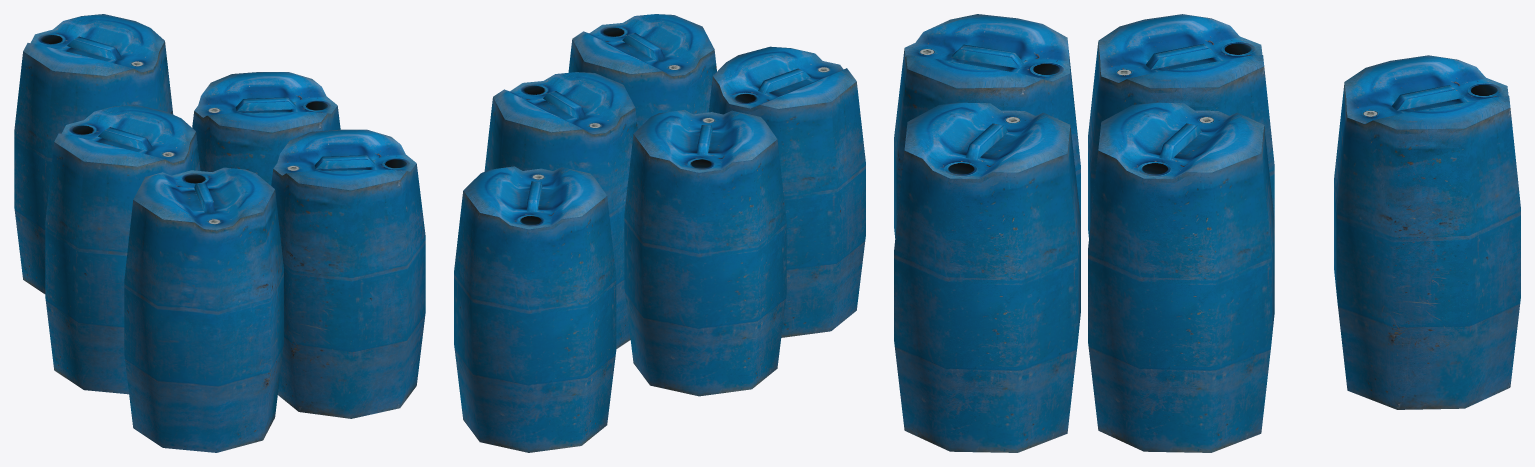
File: Barrel_v2.FBX
The picture shows the model from 3 angles, left to right: view 1: azimuth 30°, elevation 25°; view 2: azimuth 150°, elevation 25°; view 3: azimuth 270°, elevation 25°; orthographic projection. The views are drawn at different scales.
Parts seen in each view (by area): view 1: Barrel_v2_quadro, Barrel_v2_single; view 2: Barrel_v2_quadro, Barrel_v2_single; view 3: Barrel_v2_quadro, Barrel_v2_single.
Boxes of the visible parts, x1=… form: Barrel_v2_quadro: x1=45, y1=72, x2=425, y2=452; Barrel_v2_single: x1=14, y1=14, x2=173, y2=293; Barrel_v2_quadro: x1=484, y1=14, x2=865, y2=396; Barrel_v2_single: x1=454, y1=166, x2=616, y2=452; Barrel_v2_quadro: x1=894, y1=14, x2=1274, y2=452; Barrel_v2_single: x1=1334, y1=55, x2=1520, y2=409.
Bounding box in the file's own units: 1.32 × 1.09 × 2.15.
